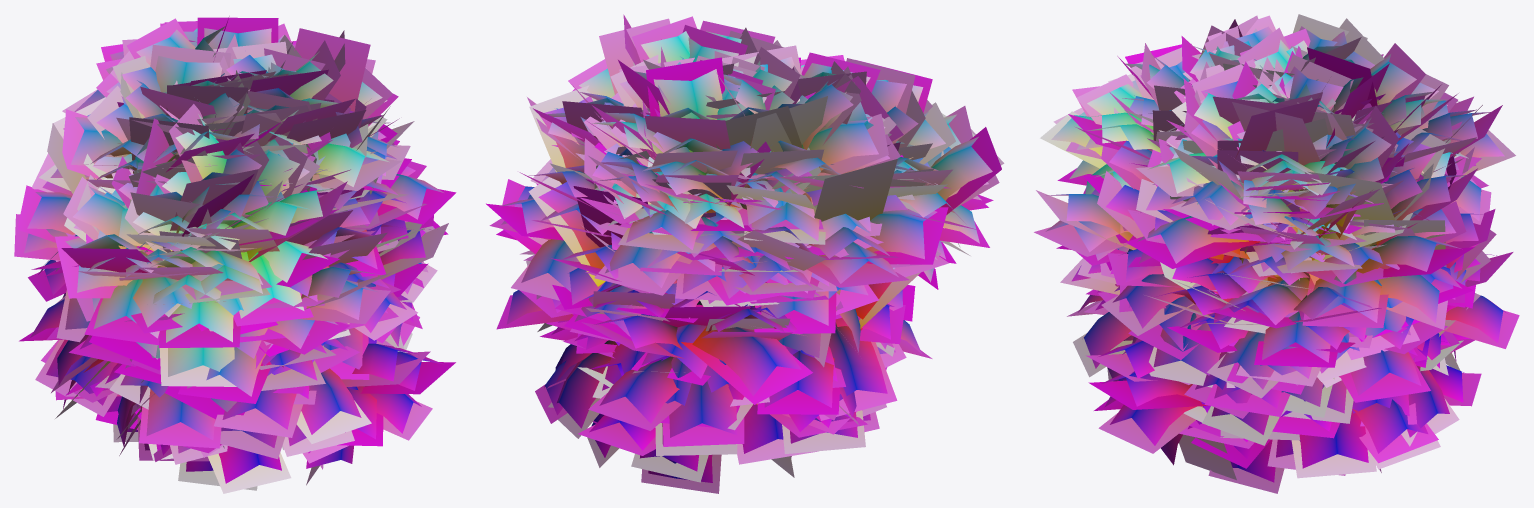
Rendered from elm_01_1.fbx.
The picture shows the model from 3 angles, left to right: view 1: azimuth 30°, elevation 25°; view 2: azimuth 150°, elevation 25°; view 3: azimuth 270°, elevation 25°; orthographic projection.
Visible parts, largest first — view 1: elm_rought_leaves_01_1_shadow, elm_rought_leaves_01_1_lod_0; view 2: elm_rought_leaves_01_1_shadow, elm_rought_leaves_01_1_lod_0; view 3: elm_rought_leaves_01_1_shadow, elm_rought_leaves_01_1_lod_0.
Boxes of the visible parts, x1=… form: elm_rought_leaves_01_1_shadow: x1=14, y1=16, x2=456, y2=493; elm_rought_leaves_01_1_lod_0: x1=24, y1=26, x2=443, y2=483; elm_rought_leaves_01_1_shadow: x1=486, y1=14, x2=1004, y2=493; elm_rought_leaves_01_1_lod_0: x1=497, y1=31, x2=992, y2=482; elm_rought_leaves_01_1_shadow: x1=1034, y1=14, x2=1519, y2=493; elm_rought_leaves_01_1_lod_0: x1=1045, y1=26, x2=1507, y2=482.
Size of what is drawn, in the model's own units: 15.84 by 14.47 by 15.55.
